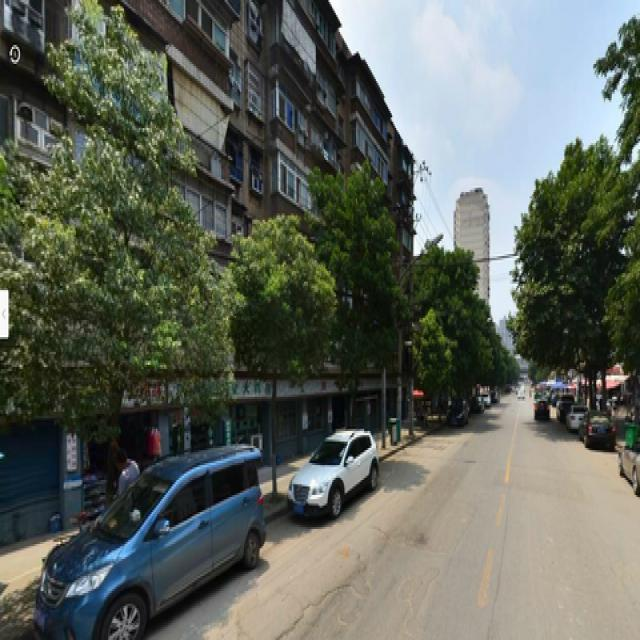cinn: (58, 60, 178, 471), (327, 184, 401, 418), (244, 241, 307, 472)
